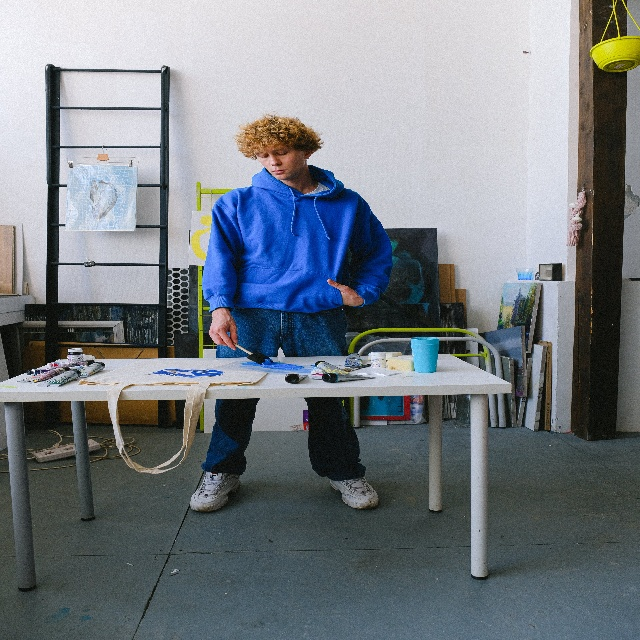Sin_guantes: (208, 309, 240, 351), (327, 277, 363, 307)
